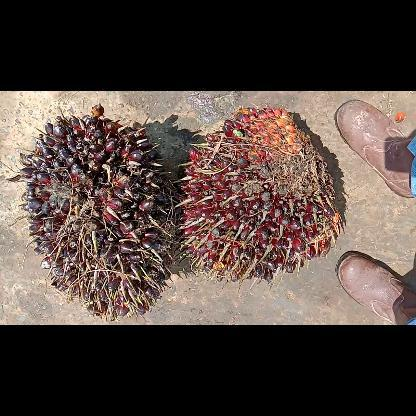TBS mentah: (8, 103, 178, 315), (178, 105, 342, 279)
